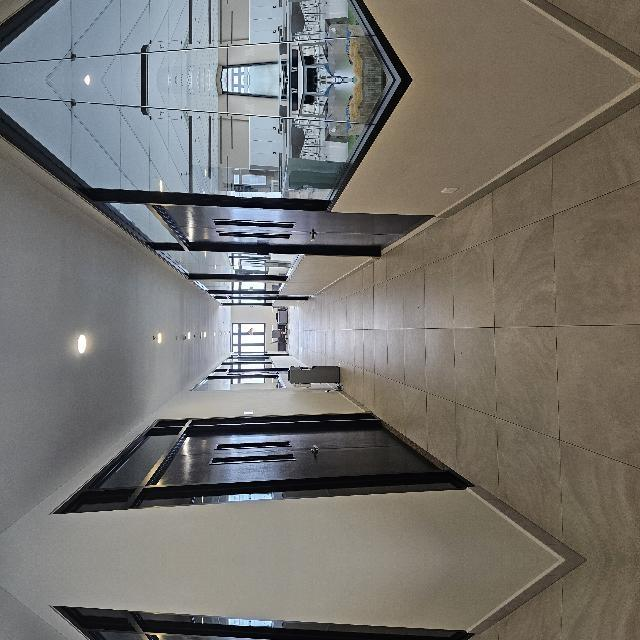door: (69, 224, 141, 530), (304, 231, 360, 517), (69, 589, 141, 640), (304, 603, 359, 640)
obstacle: (174, 366, 196, 422)
